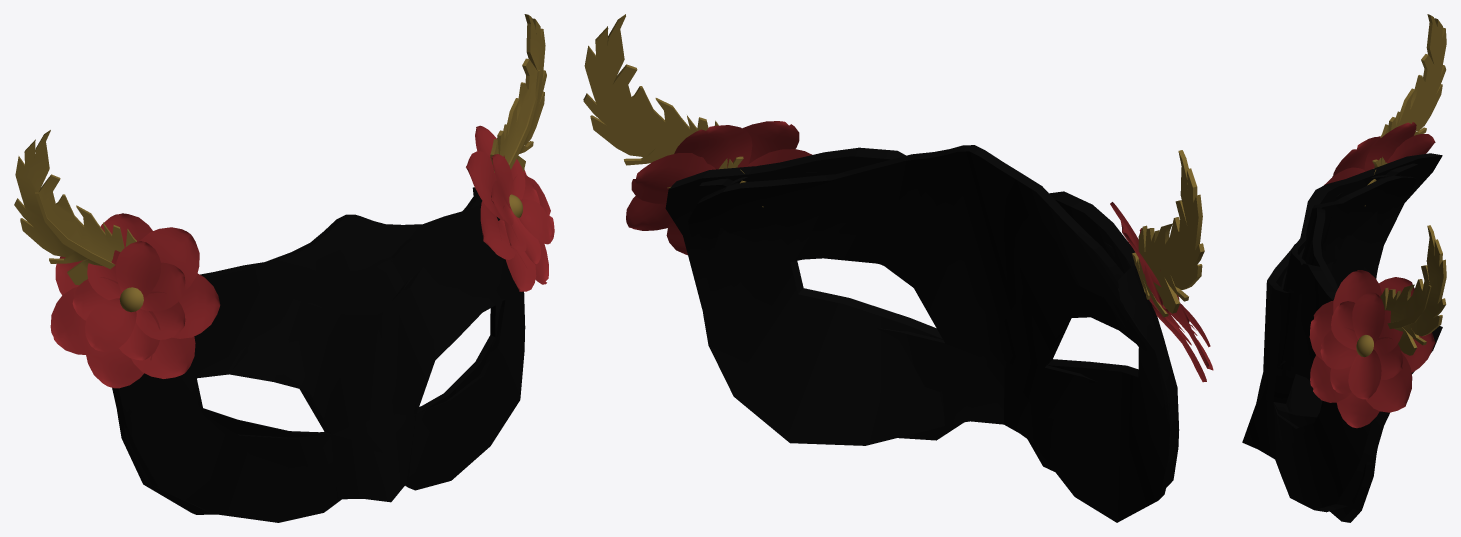
The model's file is MaskBundle.fbx.
3 renders of one model, left to right at view 1: azimuth 30°, elevation 25°; view 2: azimuth 150°, elevation 25°; view 3: azimuth 270°, elevation 25°, orthographic. The views are drawn at different scales.
Visible parts, largest first — view 1: MaskBase4, MaskBase5, FlowerLeft, MaskBase1, FlowerRight, FeatherLeft, MaskBase3, FeatherRight, MaskBase2; view 2: MaskBase5, MaskBase4, MaskBase3, FlowerRight, FeatherRight, FeatherLeft, FlowerLeft; view 3: MaskBase4, FlowerRight, MaskBase5, MaskBase3, FeatherRight, FeatherLeft, FlowerLeft, MaskBase1, MaskBase2.
Part boxes in pixels (x1,y1,x2,y2): MaskBase4: (112,201,525,522); MaskBase5: (117,267,502,514); FlowerLeft: (50,213,220,388); MaskBase1: (127,277,523,468); FlowerRight: (466,125,554,291); FeatherLeft: (14,130,136,285); MaskBase3: (265,187,481,434); FeatherRight: (490,14,546,172); MaskBase2: (237,257,505,437); MaskBase5: (691,178,1175,522); MaskBase4: (665,147,1179,487); MaskBase3: (688,145,1153,442); FlowerRight: (626,121,812,255); FeatherRight: (583,14,763,207); FeatherLeft: (1132,150,1204,317); FlowerLeft: (1110,202,1213,382); MaskBase4: (1256,153,1442,512); FlowerRight: (1309,270,1435,428); MaskBase5: (1242,163,1419,522); MaskBase3: (1273,175,1416,403); FeatherRight: (1380,225,1446,355); FeatherLeft: (1365,14,1446,206); FlowerLeft: (1324,122,1435,185); MaskBase1: (1273,271,1361,452); MaskBase2: (1278,175,1413,428).
Size of the model in its own units: 61.96 by 41.78 by 22.66.
